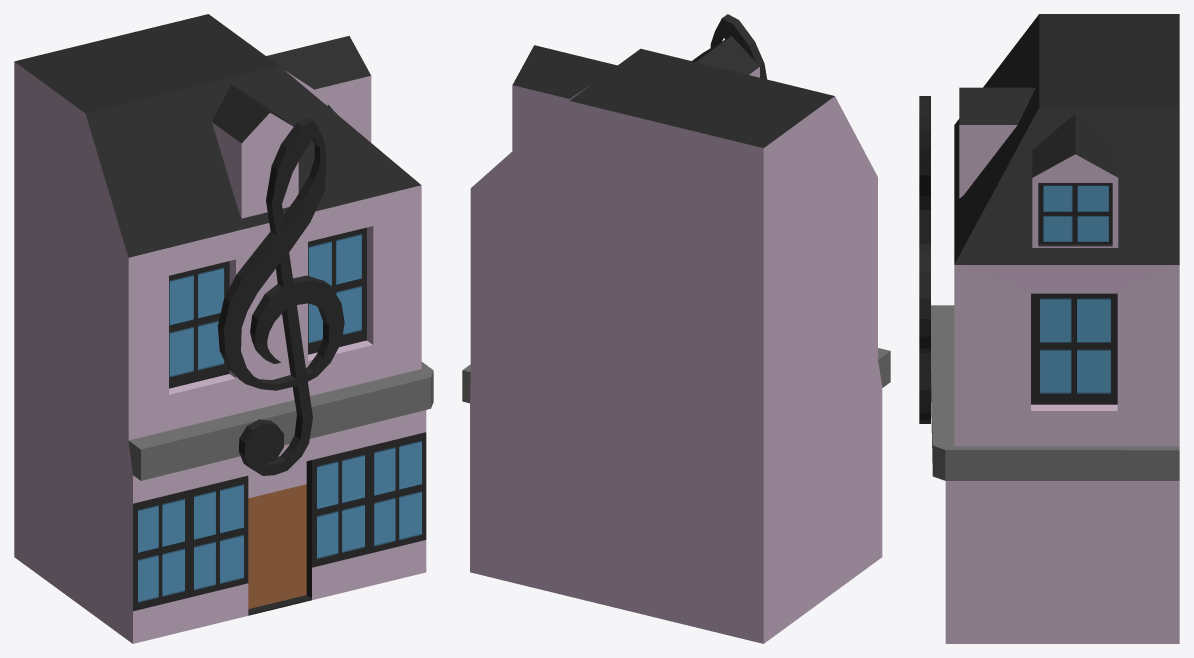
The model's file is MAINSHOP.obj.
3 views of the same model, side by side, from view 1: azimuth 30°, elevation 25°; view 2: azimuth 150°, elevation 25°; view 3: azimuth 270°, elevation 25° (orthographic).
Visible parts, largest first — view 1: SKLEPGLOWNY; view 2: SKLEPGLOWNY; view 3: SKLEPGLOWNY.
Boxes of the visible parts, x1,y1,x2,y2 form: SKLEPGLOWNY: (14,14,433,643); SKLEPGLOWNY: (462,14,890,643); SKLEPGLOWNY: (919,14,1179,643).
Size of the model in its own units: 5.13 by 8.07 by 3.9.
1 material, 1 textured.
